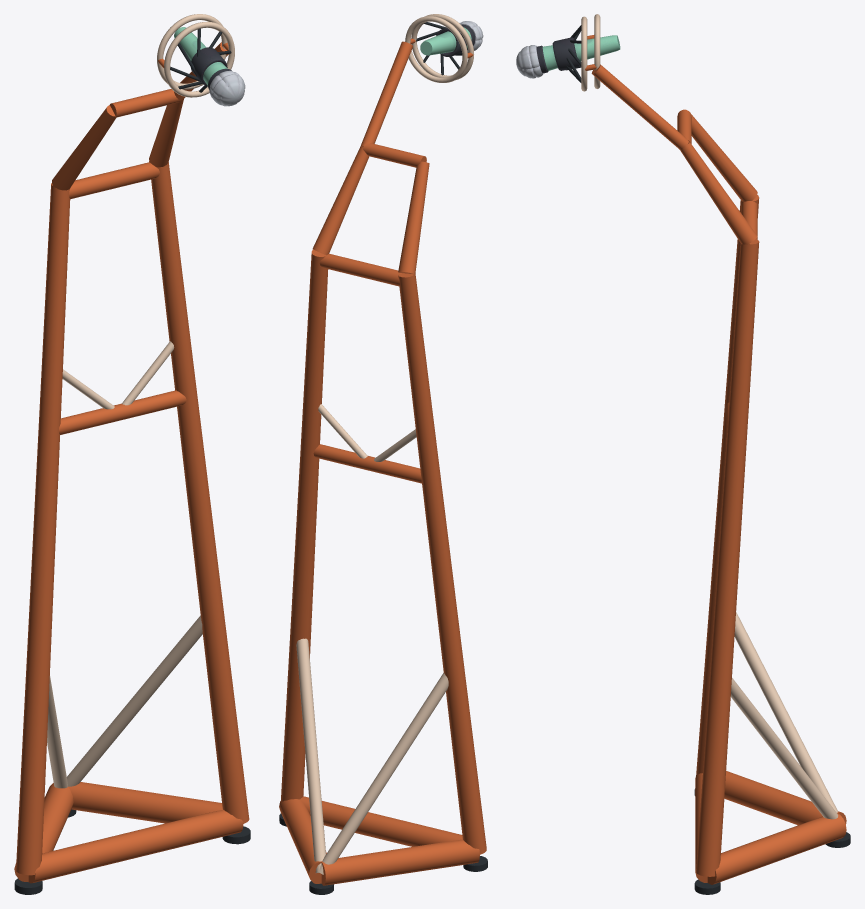
The picture shows the model from 3 angles, left to right: view 1: azimuth 30°, elevation 25°; view 2: azimuth 150°, elevation 25°; view 3: azimuth 270°, elevation 25°; orthographic projection. The views are drawn at different scales.
Visible parts, largest first — view 1: left-inclined-rail, right-inclined-rail, triangular-chassis, frame-crossbars, right-rail-brace, suspension-ring, left-rail-brace, basket-carrier, singing-mic-pickup, singing-tripod, singing-mic-handle, singing-mic-clip (+1 smaller); view 2: left-inclined-rail, right-inclined-rail, triangular-chassis, right-rail-brace, left-rail-brace, frame-crossbars, basket-carrier, suspension-ring, singing-mic-handle, singing-tripod; view 3: right-inclined-rail, triangular-chassis, left-inclined-rail, left-rail-brace, right-rail-brace, basket-carrier, suspension-ring, singing-mic-handle, singing-mic-pickup.
Part boxes in pixels (x1,y1,x2,y2): left-inclined-rail: (16, 105, 115, 875); right-inclined-rail: (149, 99, 249, 823); triangular-chassis: (14, 782, 243, 883); frame-crossbars: (59, 162, 186, 434); right-rail-brace: (67, 341, 202, 786); suspension-ring: (157, 14, 234, 97); left-rail-brace: (47, 369, 114, 788); basket-carrier: (109, 42, 228, 117); singing-mic-pickup: (209, 70, 245, 106); singing-tripod: (14, 809, 250, 894); singing-mic-handle: (174, 27, 227, 85); singing-mic-clip: (190, 47, 227, 85); left-inclined-rail: (398, 161, 486, 854); right-inclined-rail: (281, 146, 369, 801); triangular-chassis: (279, 796, 479, 885); right-rail-brace: (296, 404, 367, 872); left-rail-brace: (319, 429, 448, 874); frame-crossbars: (313, 253, 421, 483); basket-carrier: (361, 41, 426, 167); suspension-ring: (405, 14, 473, 82); singing-mic-handle: (420, 27, 471, 55); singing-tripod: (279, 813, 487, 894); right-inclined-rail: (680, 142, 759, 876); triangular-chassis: (695, 771, 846, 884); left-inclined-rail: (691, 114, 759, 774); left-rail-brace: (734, 612, 838, 812); right-rail-brace: (730, 678, 838, 819); basket-carrier: (591, 64, 691, 149); suspension-ring: (581, 14, 600, 91); singing-mic-handle: (542, 35, 620, 70); singing-mic-pickup: (516, 45, 543, 78).
Bounding box in the file's own units: 0.458 × 1.68 × 0.6178.
4 materials, 1 textured.
